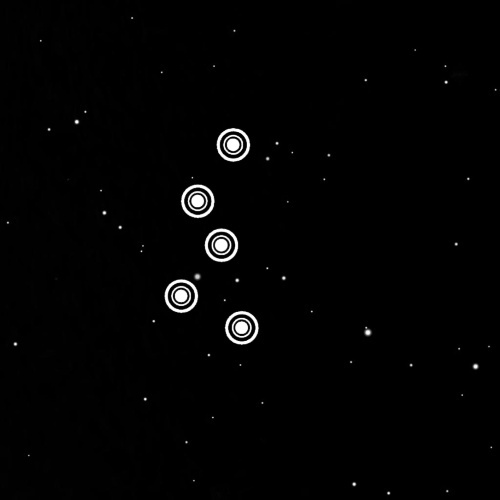cassiopeia: (151, 119, 270, 356)
